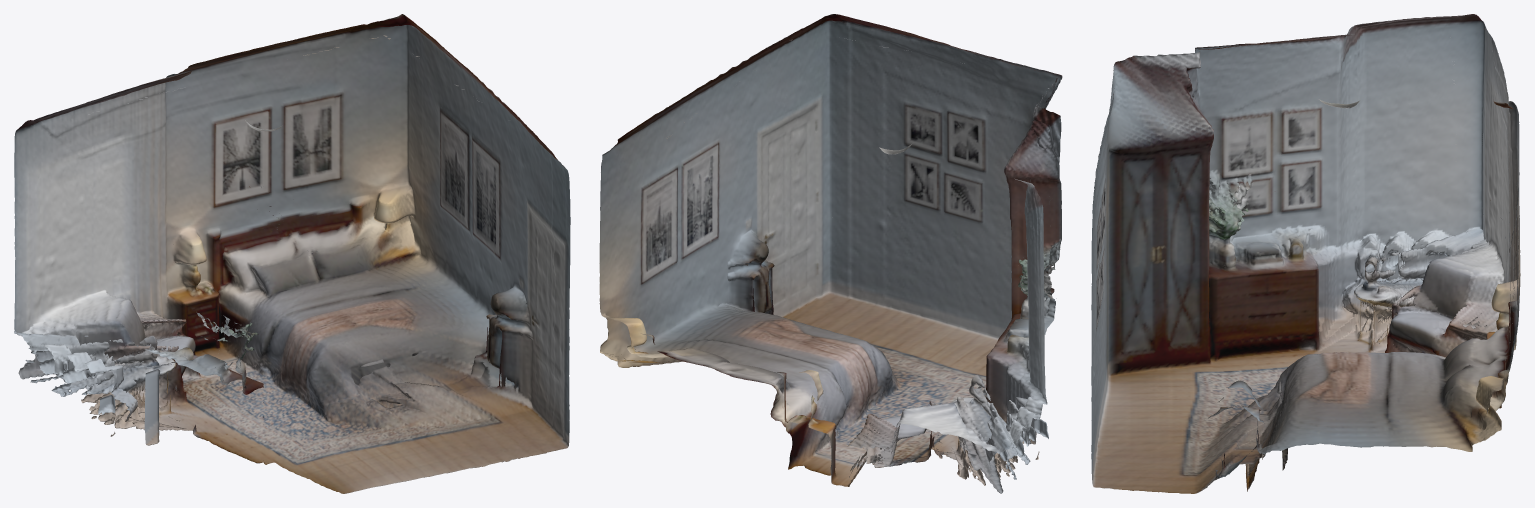
Rendered from Elegant Blue Bedroom Retreat_collider.glb.
The picture shows the model from 3 angles, left to right: view 1: azimuth 30°, elevation 25°; view 2: azimuth 150°, elevation 25°; view 3: azimuth 270°, elevation 25°; orthographic projection. The views are drawn at different scales.
Visible parts, largest first — view 1: world; view 2: world; view 3: world.
Part boxes in pixels (x1=…): world: x1=14, y1=14, x2=570, y2=493; world: x1=599, y1=14, x2=1062, y2=493; world: x1=1091, y1=14, x2=1520, y2=493.
Size of the model in its own units: 4.9 by 3.43 by 4.31.
